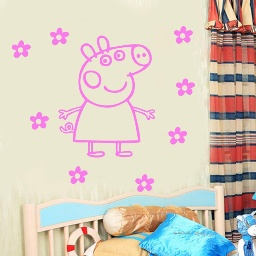Peppa: (59, 36, 162, 162)
